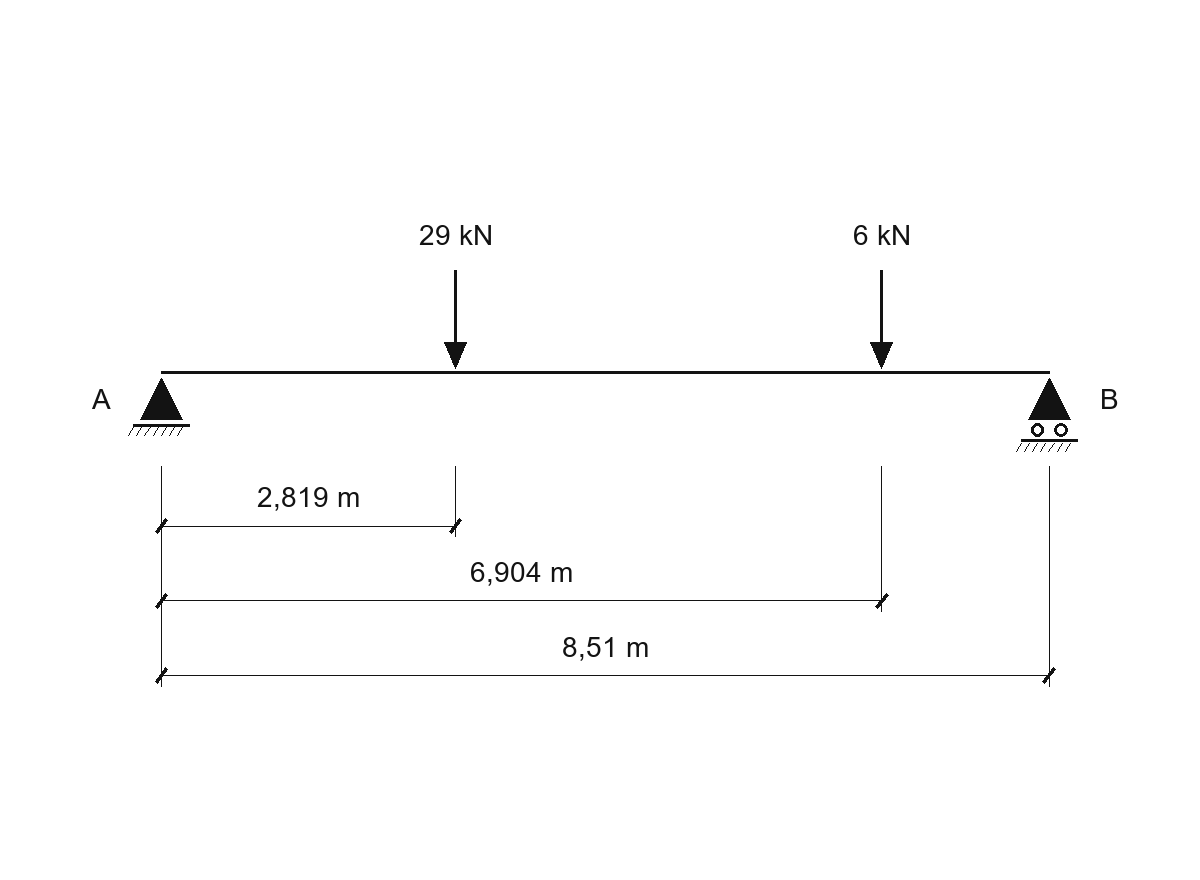pin_support: (128, 378, 190, 436)
point_load: (444, 270, 467, 369), (870, 270, 893, 369)
roller_support: (1016, 378, 1078, 452)
